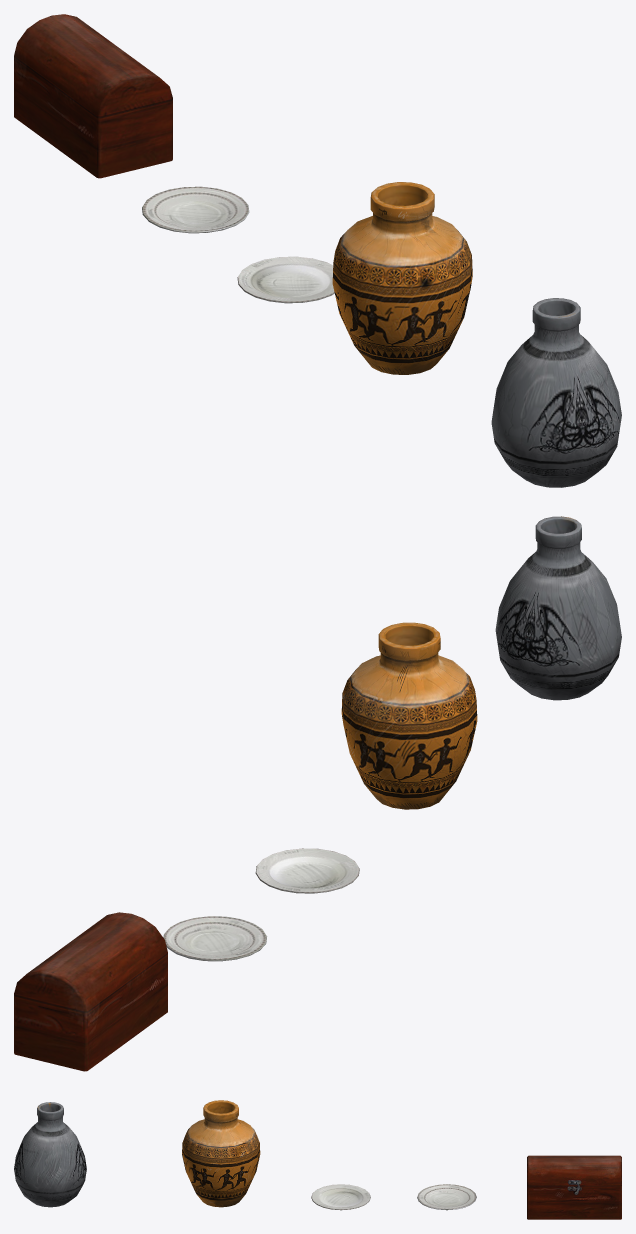
The model's file is deco_hall.fbx.
The picture shows the model from 3 angles, top to bottom: view 1: azimuth 30°, elevation 25°; view 2: azimuth 150°, elevation 25°; view 3: azimuth 270°, elevation 25°; orthographic projection. The views are drawn at different scales.
Parts seen in each view (by area): view 1: polySurface489, polySurface486, polySurface490, polySurface487, polySurface488; view 2: polySurface489, polySurface486, polySurface490, polySurface488, polySurface487; view 3: polySurface489, polySurface486, polySurface490, polySurface488, polySurface487.
Boxes of the visible parts, x1,y1,x2,y2 form: polySurface489: (332,182,472,374); polySurface486: (14,14,172,178); polySurface490: (491,298,621,487); polySurface487: (142,186,249,233); polySurface488: (237,256,334,303); polySurface489: (341,622,477,809); polySurface486: (14,912,167,1071); polySurface490: (495,516,621,700); polySurface488: (255,848,359,893); polySurface487: (163,916,266,961); polySurface489: (182,1100,260,1207); polySurface486: (527,1155,621,1219); polySurface490: (14,1102,86,1207); polySurface488: (311,1184,370,1210); polySurface487: (417,1184,476,1210).
Size of the model in its own units: 35.44 by 49.58 by 275.
